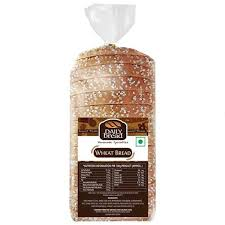bread: (68, 4, 162, 213)
